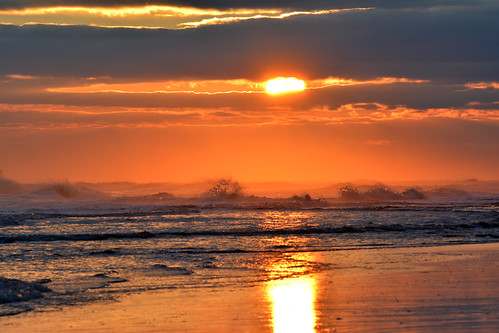sea: (1, 198, 485, 287)
sky: (1, 1, 491, 178)
sun: (258, 64, 307, 100)
